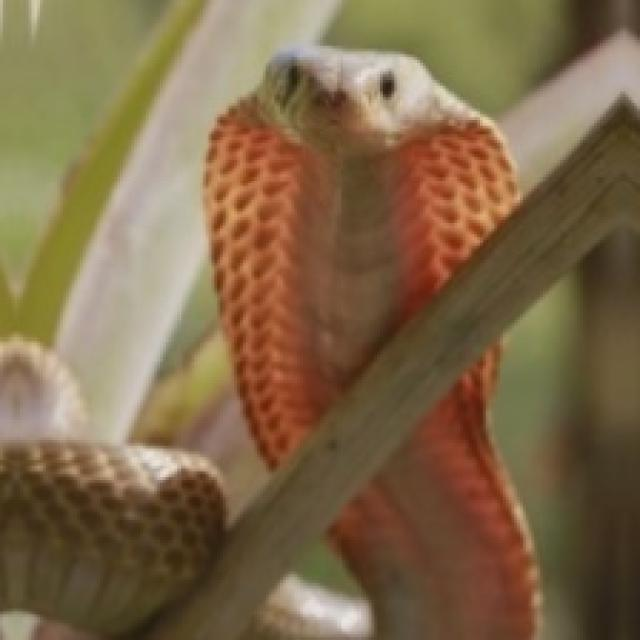philippine cobra: (206, 46, 514, 463), (0, 337, 223, 634), (331, 346, 534, 637)
